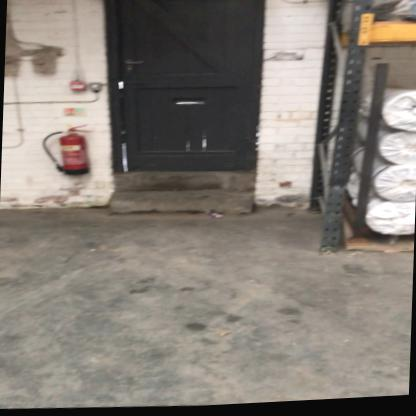vertical_damage: (322, 159, 360, 214)
